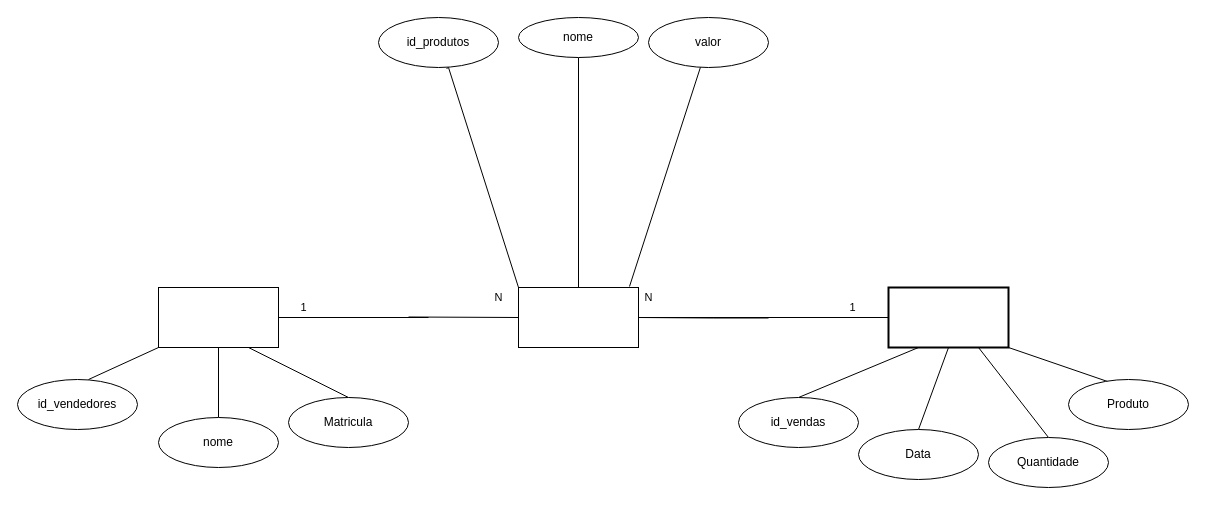
The diagram is 1206 pixels wide and 505 high, and some of its shapes have lost their labels. The shapes that lost their labels are listed below. From the top down, each one's centre as x and y in pixels, then its label:
the point at 218,317: Vendedores
the point at 578,317: Produtos
the point at 948,317: Vendas
